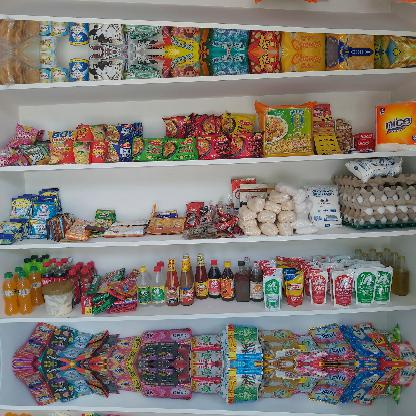Lady-s-Choice: (40, 280, 78, 316)
